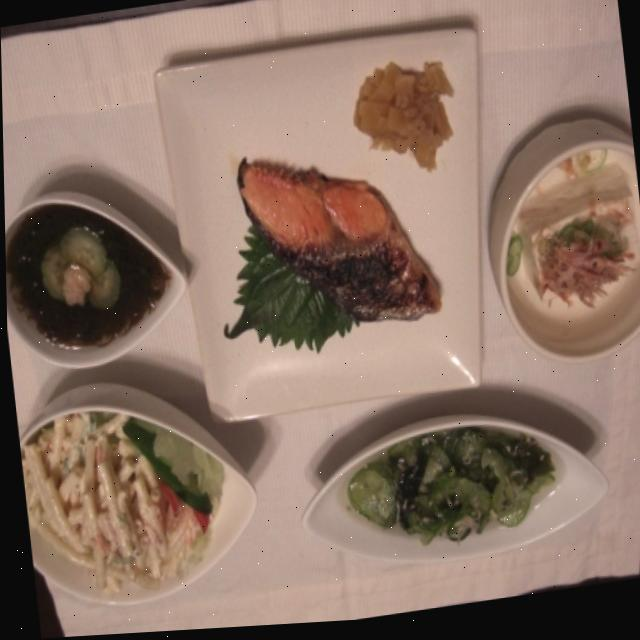熟制海鲜: (210, 149, 455, 357)
